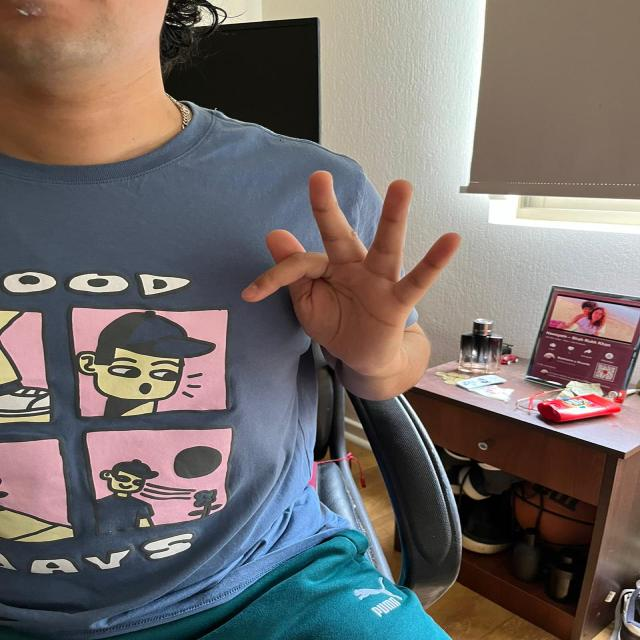F: (241, 160, 467, 378)
